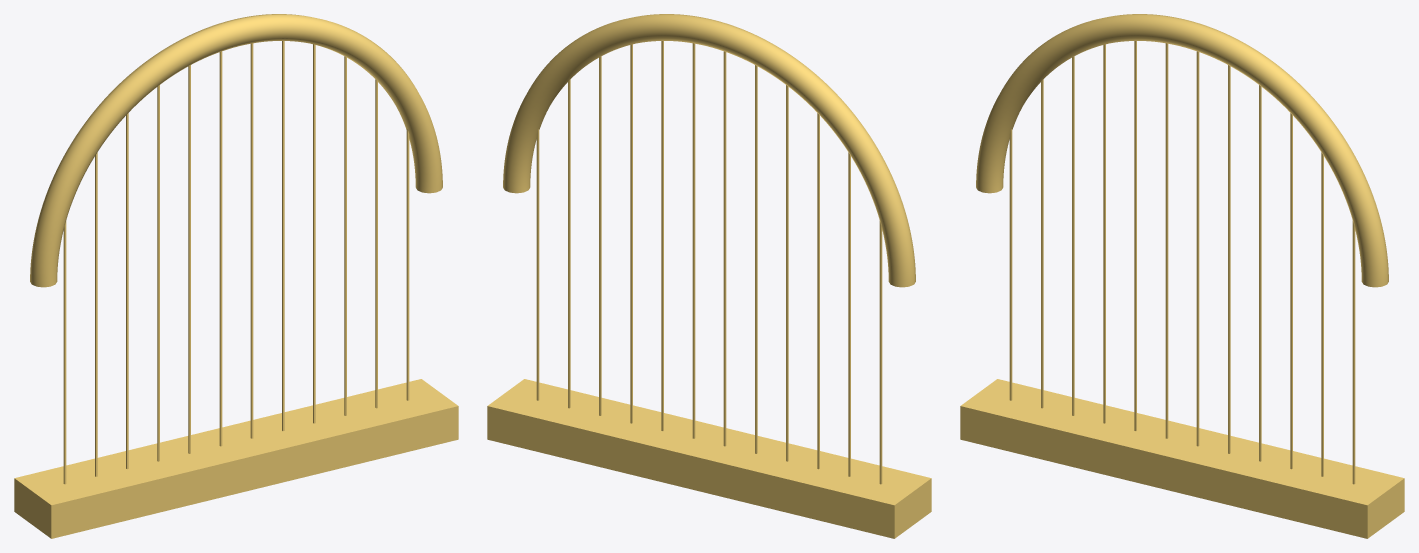
The model's file is ha_harp.glb.
3 views of the same model, side by side, from view 1: azimuth 30°, elevation 25°; view 2: azimuth 150°, elevation 25°; view 3: azimuth 330°, elevation 25° (orthographic).
Size of the model in its own units: 1.91 by 2.03 by 0.3.
